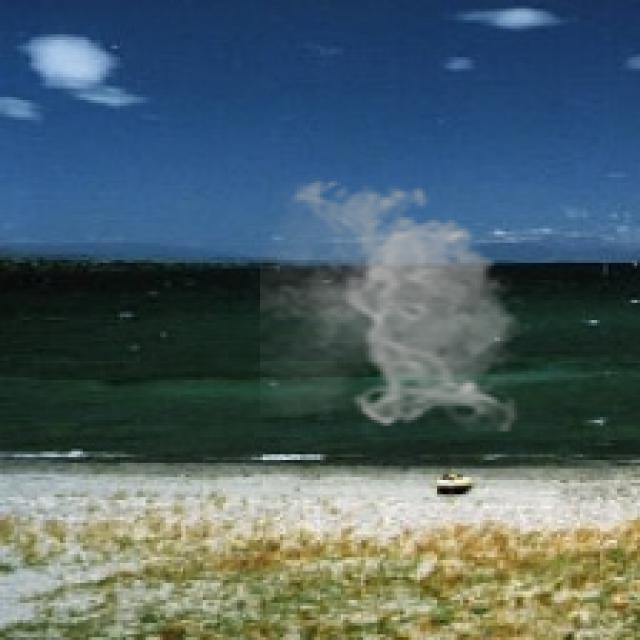Smoke: (260, 172, 526, 432)
